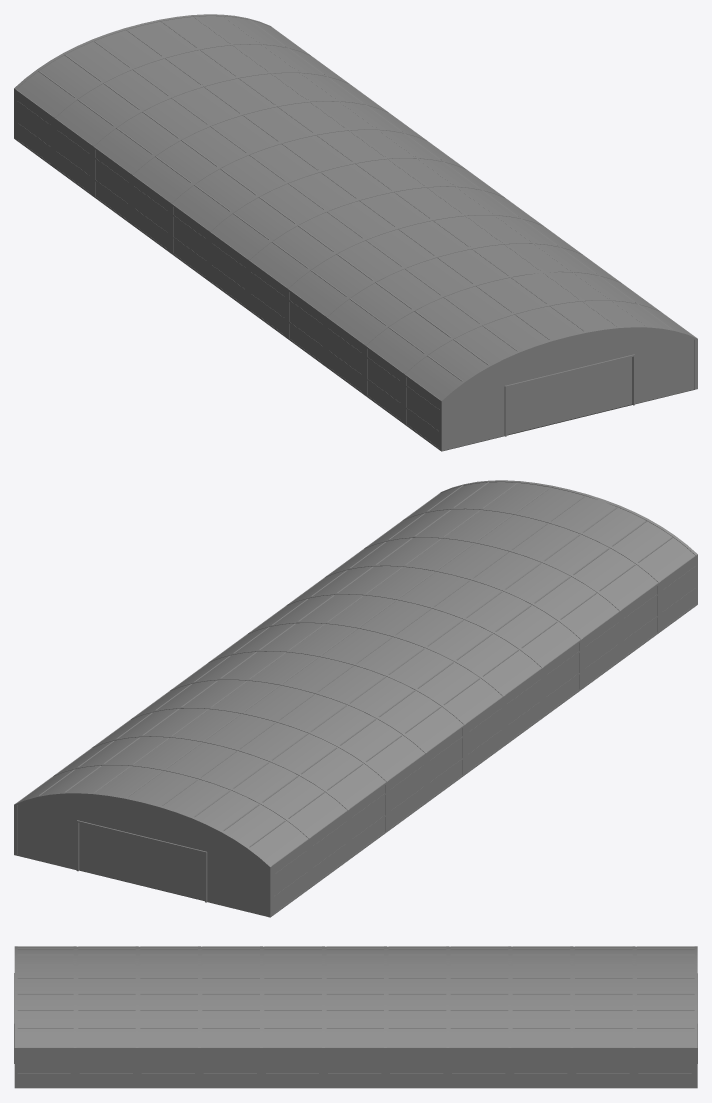
Rendered from warehouse.lod0.glb.
3 views of the same model, one above another, from view 1: azimuth 30°, elevation 25°; view 2: azimuth 150°, elevation 25°; view 3: azimuth 270°, elevation 25° (orthographic). The views are drawn at different scales.
Visible parts, largest first — view 1: NurbsPath.005_Metal_0; view 2: NurbsPath.005_Metal_0; view 3: NurbsPath.005_Metal_0.
Boxes of the visible parts, x1,y1,x2,y2 form: NurbsPath.005_Metal_0: [14, 14, 697, 451]; NurbsPath.005_Metal_0: [14, 480, 697, 917]; NurbsPath.005_Metal_0: [14, 946, 697, 1088].
Bounding box in the file's own units: 16 × 5.02 × 46.27.
3 materials, 1 textured.
